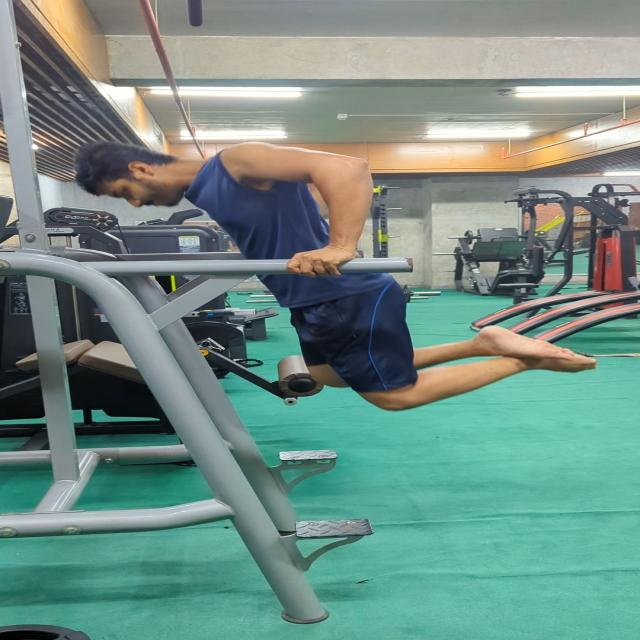Normal_Dips: (62, 135, 608, 415)
